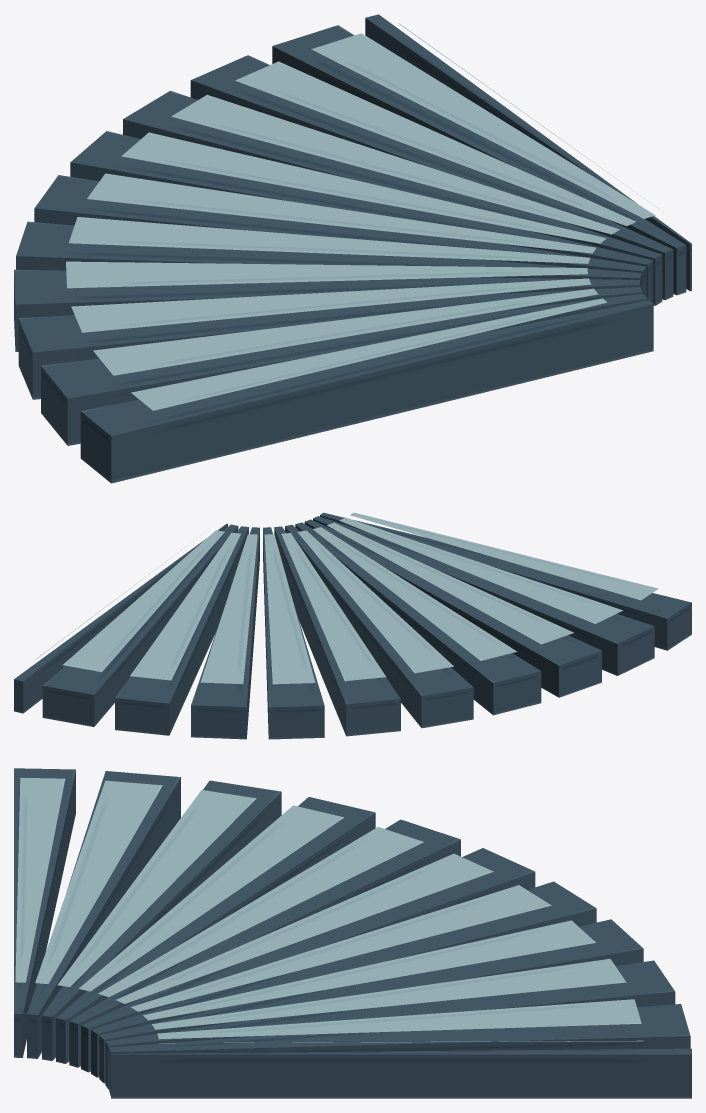
File: sc_tread_curve_right_10.obj
The picture shows the model from 3 angles, top to bottom: view 1: azimuth 30°, elevation 25°; view 2: azimuth 150°, elevation 25°; view 3: azimuth 270°, elevation 25°; orthographic projection. The views are drawn at different scales.
Size of the model in its own units: 17.5 by 1.56 by 17.5.
1 material, 1 textured.
